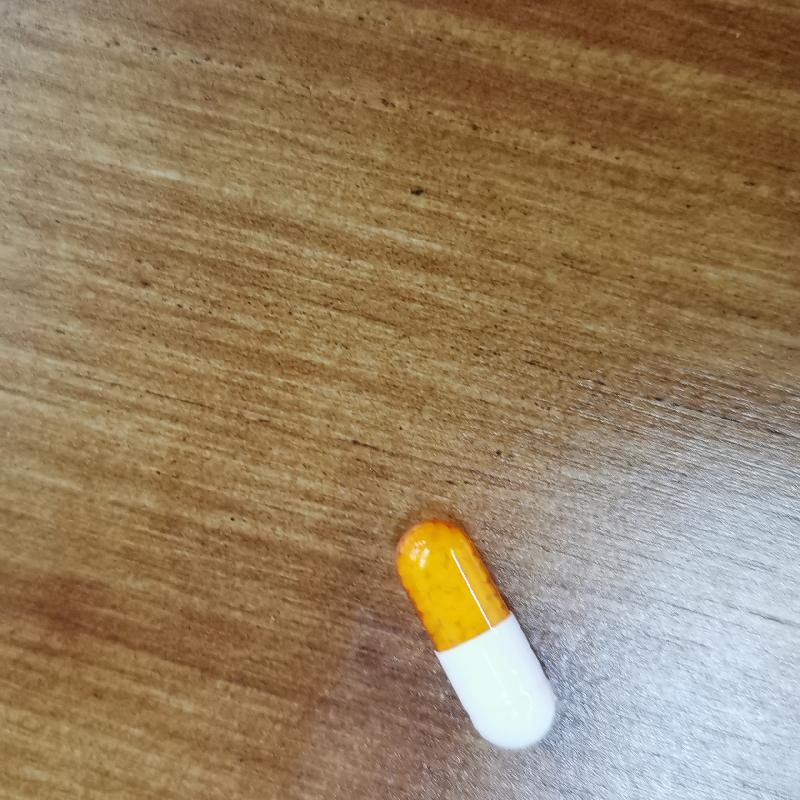pills: (368, 500, 576, 767)
